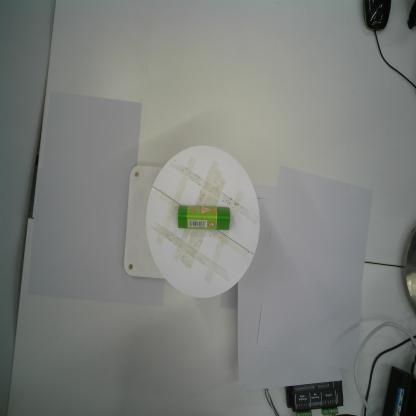Stationery: (177, 204, 232, 230)
